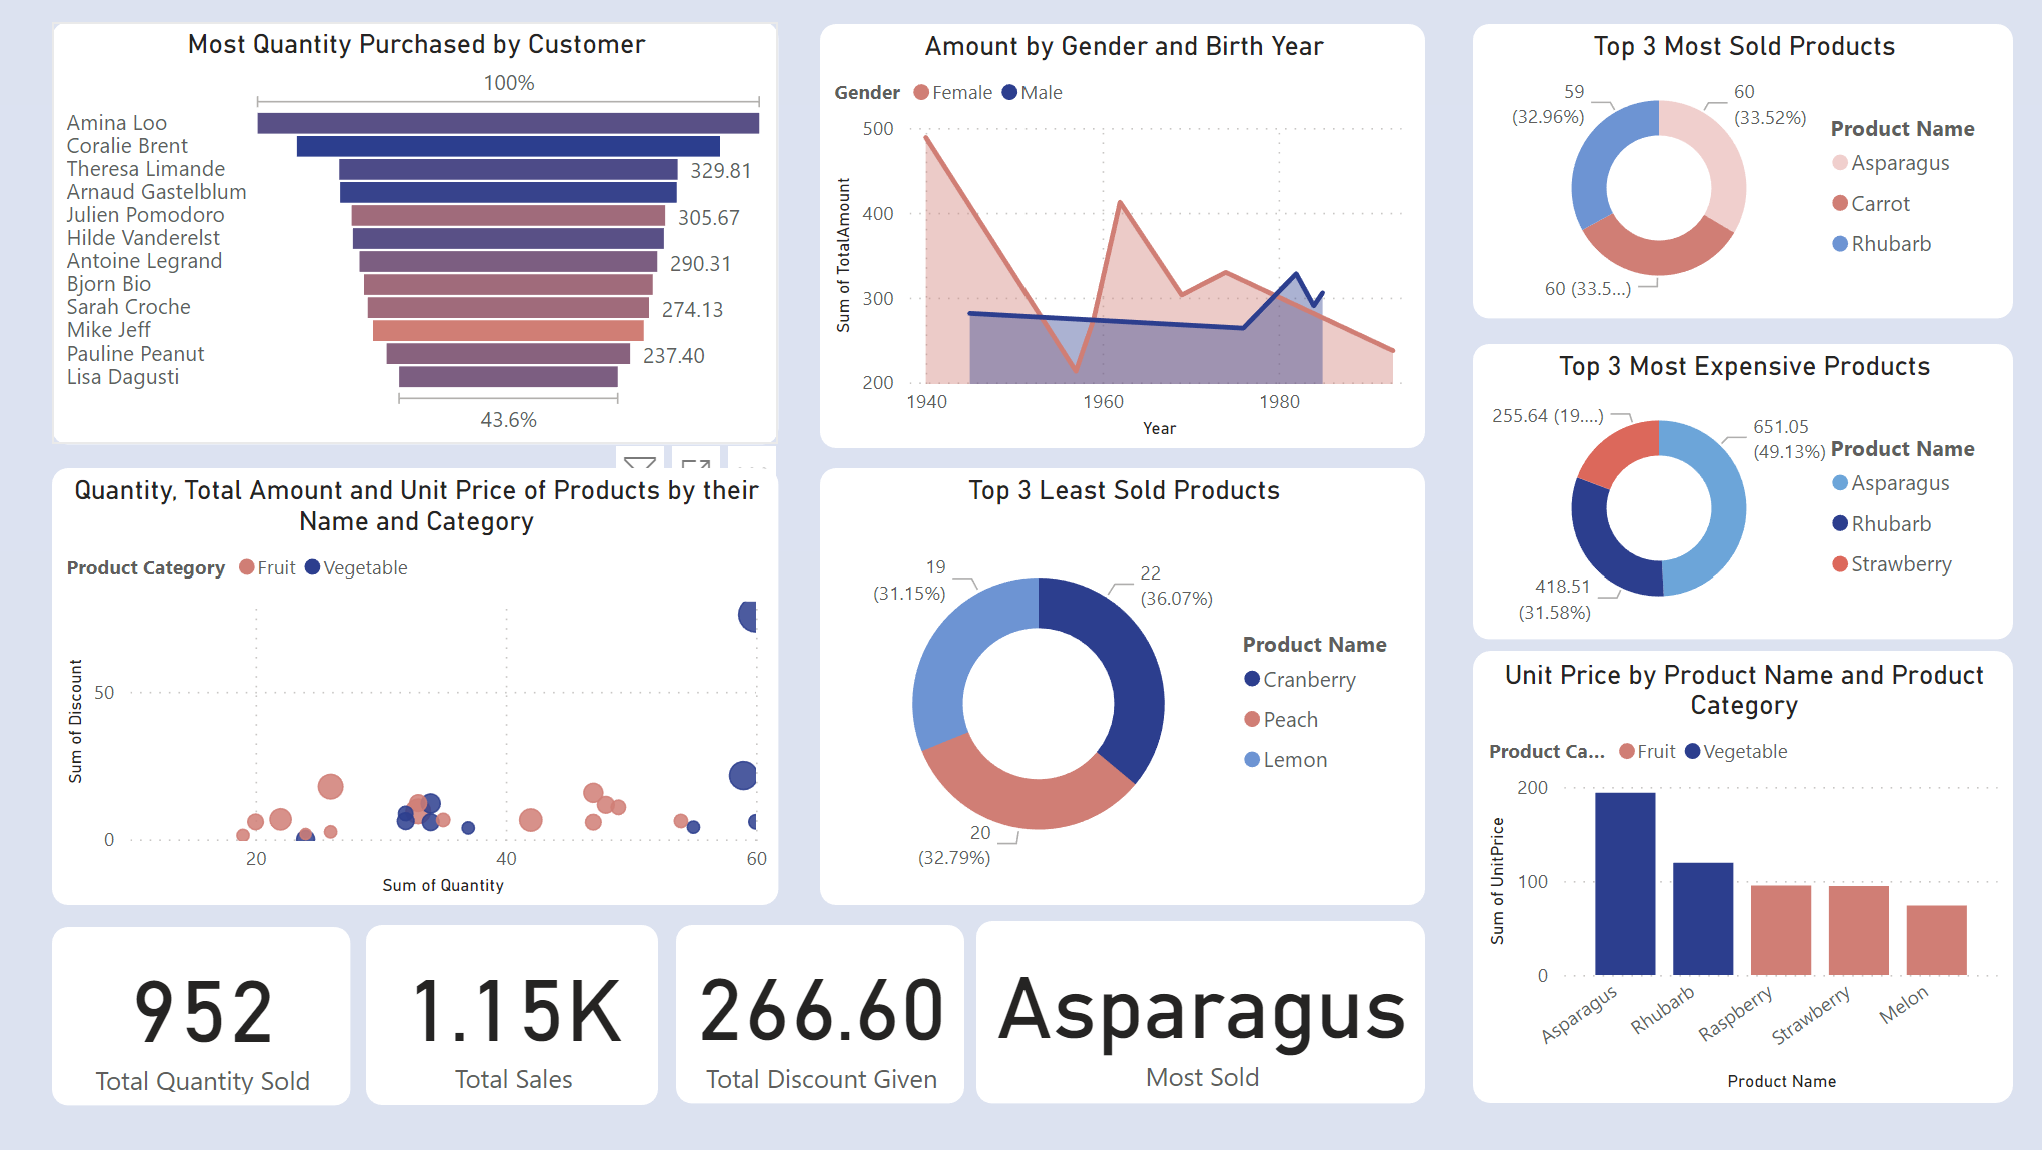

This screenshot's page, from the dashboard's own definition file:
{"tool":"powerbi","page":{"name":"Page 1","canvas":[1280,720],"ordinal":0},"visuals":[{"type":"funnel","title":"Most Quantity Purchased by Customer","fields":{"Category":["Sales.Full Name"],"Y":["Sales.TotalAmount"]},"box":[22.5,15,466.2,263.8],"z":0},{"type":"scatterChart","title":"Quantity, Total Amount and Unit Price of Products by their Name and Category","fields":{"Category":["Sales.Product Name"],"X":["Sales.Quantity"],"Y":["Sales.Discount"],"Size":["Sales.UnitPrice"],"Series":["Sales.Product Category"]},"box":[22.5,293.8,465,272.5],"z":1},{"type":"columnChart","title":"Unit Price by Product Name and Product Category","fields":{"Category":["Sales.Product Name"],"Y":["Sales.UnitPrice"],"Series":["Sales.Product Category"]},"box":[910,407.5,350,282.5],"z":2},{"type":"areaChart","title":"Amount by Gender and Birth Year","fields":{"Category":["Sales.Birthdate.Variation.Date Hierarchy.Year","Sales.Birthdate.Variation.Date Hierarchy.Quarter","Sales.Birthdate.Variation.Date Hierarchy.Month","Sales.Birthdate.Variation.Date Hierarchy.Day"],"Y":["Sales.TotalAmount"],"Series":["Sales.Gender"]},"box":[503.8,16.2,388.8,265],"z":3},{"type":"donutChart","title":"Top 3 Least Sold Products","fields":{"Category":["Sales.Product Name"],"Y":["Sales.Quantity"]},"box":[503.8,293.8,388.8,272.5],"z":5},{"type":"donutChart","title":"Top 3 Most Sold Products","fields":{"Category":["Sales.Product Name"],"Y":["Sales.Quantity"]},"box":[910,16.2,350,183.8],"z":6},{"type":"donutChart","title":"Top 3 Most Expensive Products","fields":{"Category":["Sales.Product Name"],"Y":["Sales.TotalAmount"]},"box":[910,216.2,350,183.8],"z":7},{"type":"card","fields":{"Values":["Sales.UnitPrice"]},"box":[222.5,578.8,182.5,112.5],"z":8},{"type":"card","fields":{"Values":["Sales.Quantity"]},"box":[22.5,580,186.2,111.2],"z":9},{"type":"card","fields":{"Values":["Sales.Discount"]},"box":[413.8,578.8,180,111.2],"z":10},{"type":"card","fields":{"Values":["Sales.Product Name"]},"box":[602.5,576.2,290,113.8],"z":11}]}

Visuals, with their boxes in screenshot pixels (x1, y1, x2, y2), scaled from the page's 1280x720 canvas onto the 2042x1150 screenshot:
"Most Quantity Purchased by Customer" funnel: bbox=(36, 24, 780, 445)
"Quantity, Total Amount and Unit Price of Products by their Name and Category" scatterChart: bbox=(36, 469, 778, 905)
"Unit Price by Product Name and Product Category" columnChart: bbox=(1452, 651, 2010, 1102)
"Amount by Gender and Birth Year" areaChart: bbox=(804, 26, 1424, 449)
"Top 3 Least Sold Products" donutChart: bbox=(804, 469, 1424, 905)
"Top 3 Most Sold Products" donutChart: bbox=(1452, 26, 2010, 319)
"Top 3 Most Expensive Products" donutChart: bbox=(1452, 345, 2010, 639)
card - Sales.UnitPrice: bbox=(355, 924, 646, 1104)
card - Sales.Quantity: bbox=(36, 926, 333, 1104)
card - Sales.Discount: bbox=(660, 924, 947, 1102)
card - Sales.Product Name: bbox=(961, 920, 1424, 1102)
